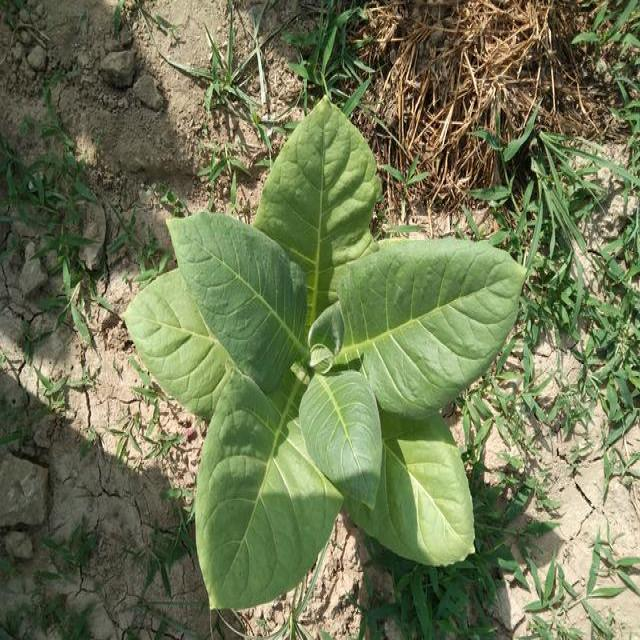crop: (118, 93, 526, 609)
